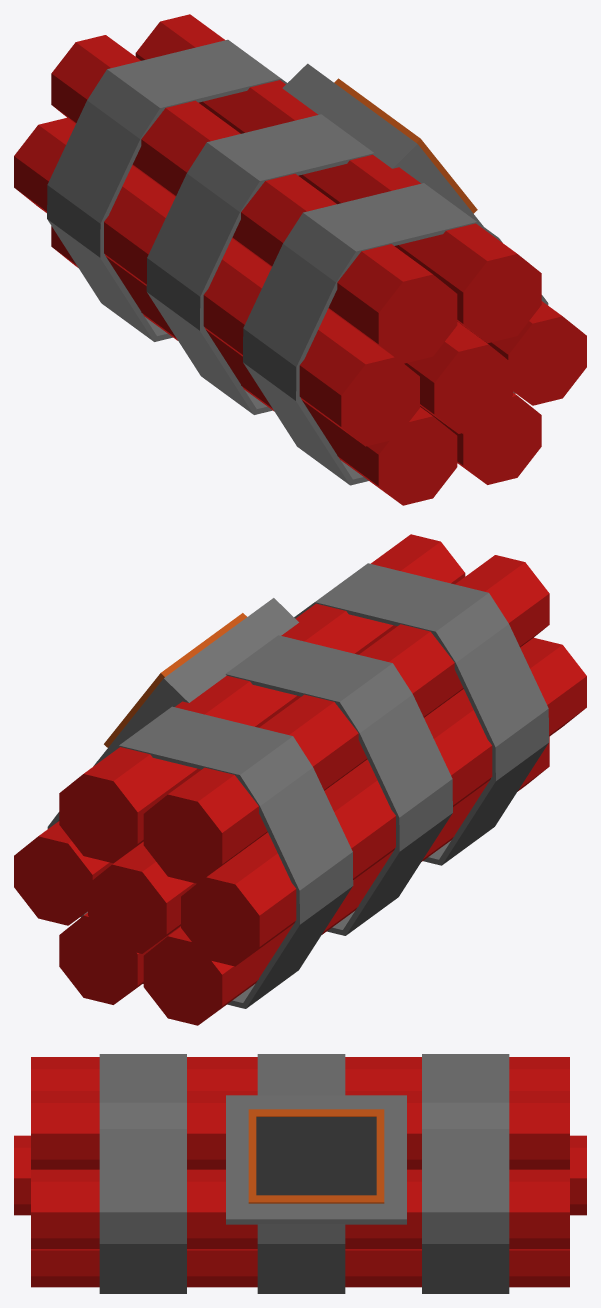
3 views of the same model, one above another, from view 1: azimuth 30°, elevation 25°; view 2: azimuth 150°, elevation 25°; view 3: azimuth 270°, elevation 25° (orthographic). The views are drawn at different scales.
Visible parts, largest first — view 1: F-25; view 2: F-25; view 3: F-25.
Boxes of the visible parts, <box> form: F-25: <box>14,14,586,505</box>; F-25: <box>14,534,586,1025</box>; F-25: <box>14,1054,586,1293</box>.
Bounding box in the file's own units: 34.09 × 29.67 × 74.87.
